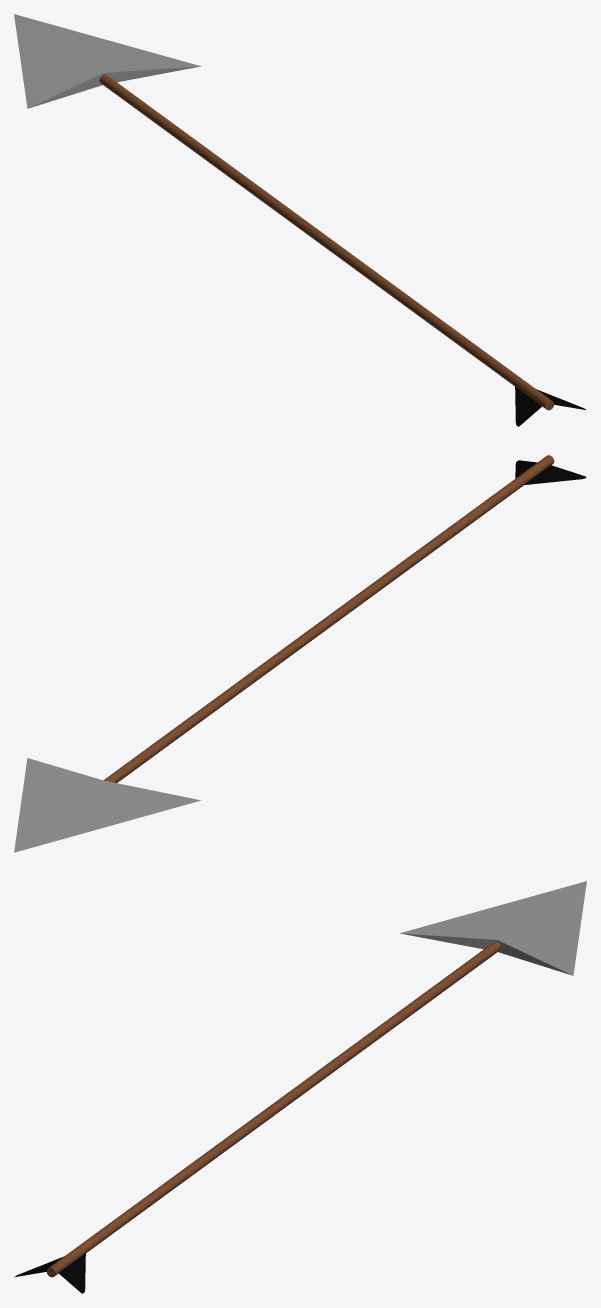
Rendered from Arrow.fbx.
3 views of the same model, one above another, from view 1: azimuth 30°, elevation 25°; view 2: azimuth 150°, elevation 25°; view 3: azimuth 330°, elevation 25° (orthographic).
Visible parts, largest first — view 1: Arrow; view 2: Arrow; view 3: Arrow.
Boxes of the visible parts, x1,y1,x2,y2 form: Arrow: (14, 14, 586, 426); Arrow: (14, 455, 586, 852); Arrow: (14, 881, 586, 1293).
Size of the model in its own units: 200 by 18.55 by 1071.
